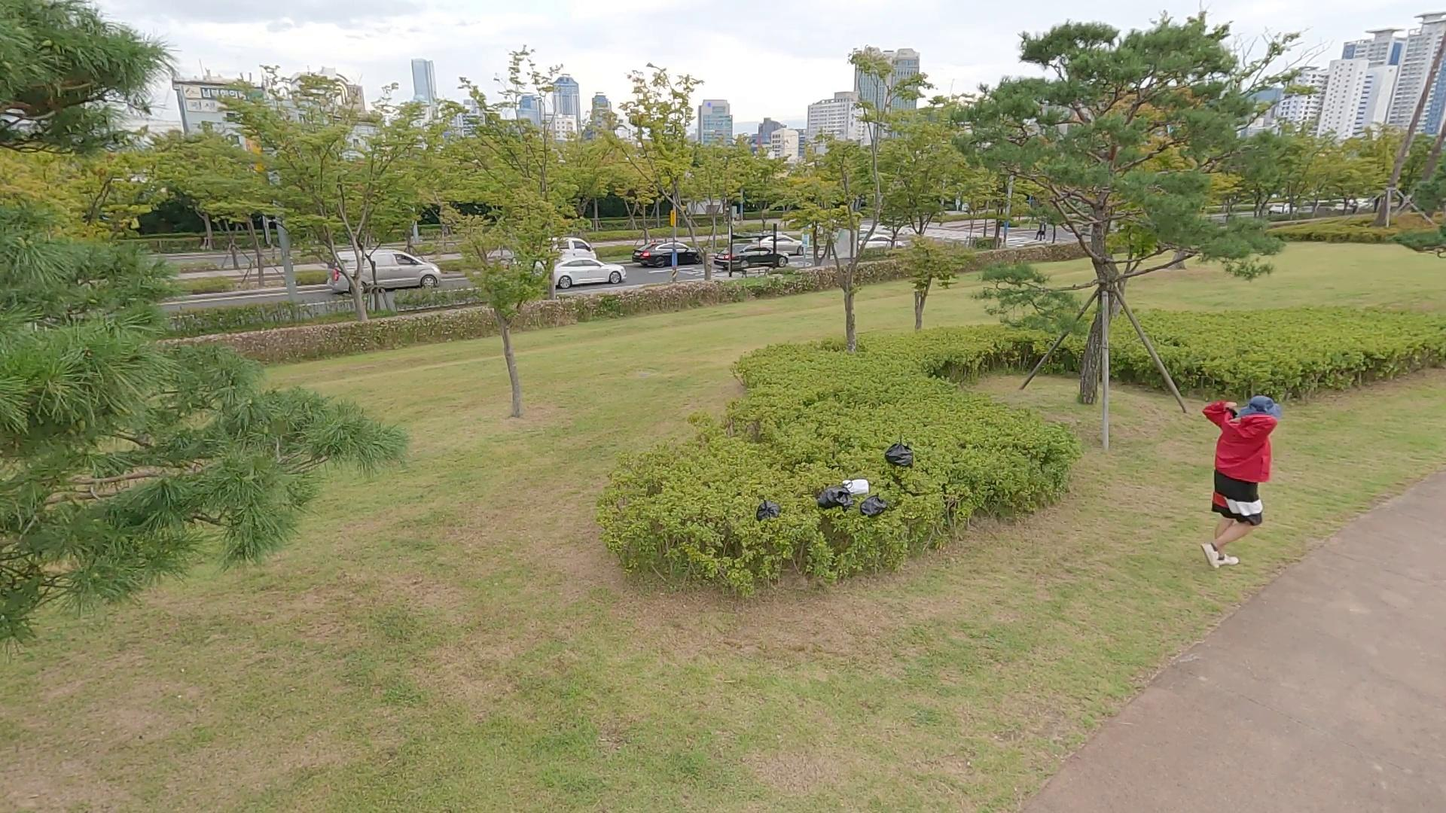person: (1197, 390, 1275, 567)
trash: (817, 484, 853, 509), (861, 491, 891, 521), (754, 497, 783, 526), (884, 442, 915, 467), (842, 476, 870, 498)
